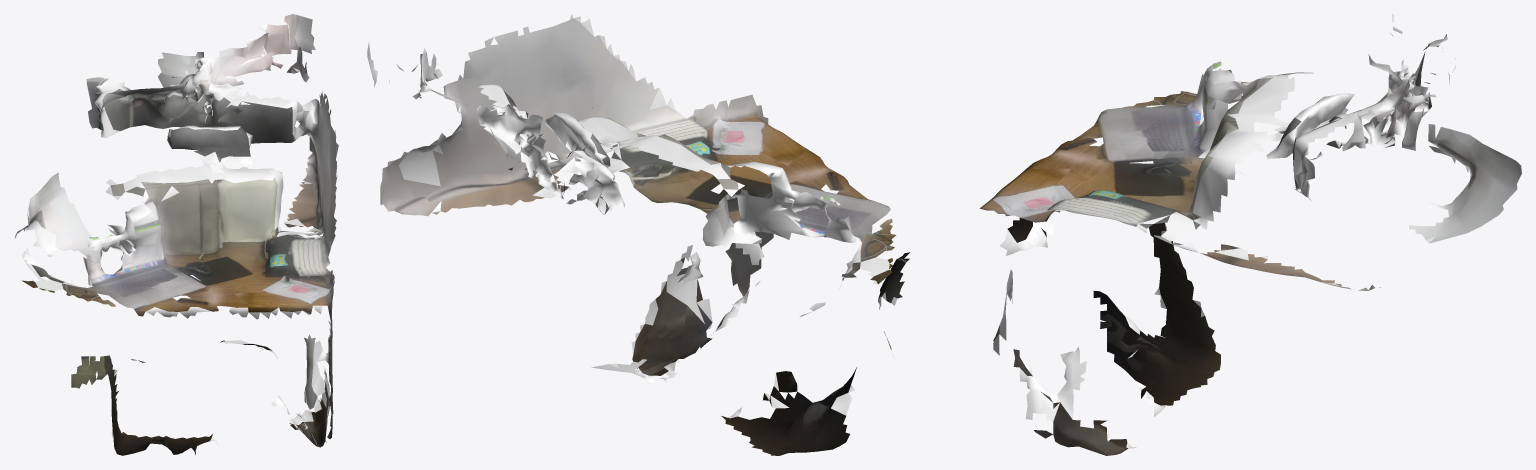
The picture shows the model from 3 angles, left to right: view 1: azimuth 30°, elevation 25°; view 2: azimuth 150°, elevation 25°; view 3: azimuth 270°, elevation 25°; orthographic projection. The views are drawn at different scales.
Parts seen in each view (by area): view 1: texture_0, object 1, texture_2; view 2: texture_0, object 1, texture_2; view 3: texture_0, object 1, texture_2.
Part boxes in pixels (x1,y1,x2,y2): texture_0: [21, 14, 336, 455]; object 1: [15, 15, 338, 447]; texture_2: [290, 181, 334, 447]; texture_0: [367, 18, 909, 455]; object 1: [367, 14, 897, 418]; texture_2: [432, 94, 780, 375]; texture_0: [994, 33, 1521, 454]; object 1: [993, 14, 1476, 448]; texture_2: [979, 188, 1341, 455].
Size of the model in its own units: 1.57 by 1.38 by 1.74.
Materials: 3 (2 with a texture image).
